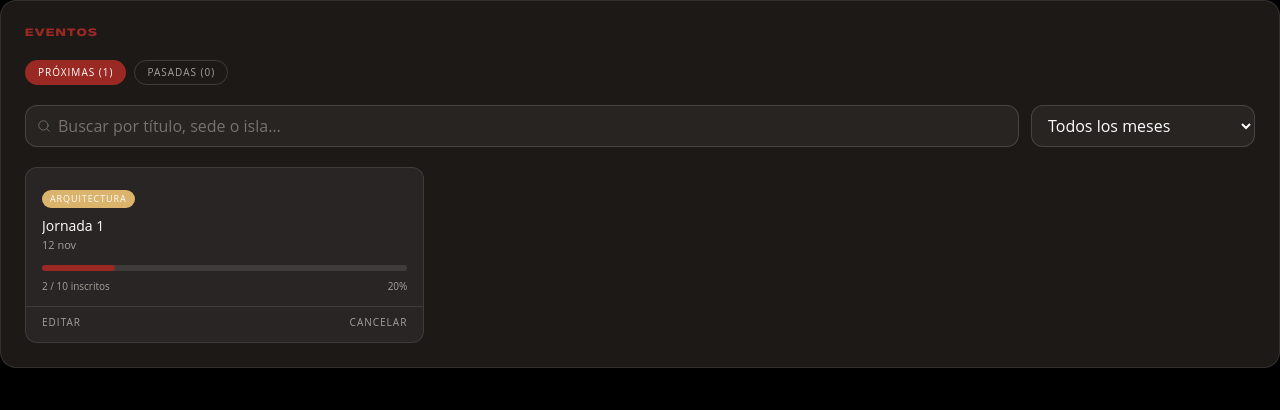
Test: ControlAsistentes — quitar a un inscrito › al confirmar, libera la plaza de ese inscrito y lo quita de la lista
Click the text "Jornada 1".
click(73, 225)  # box [42,216,104,234]
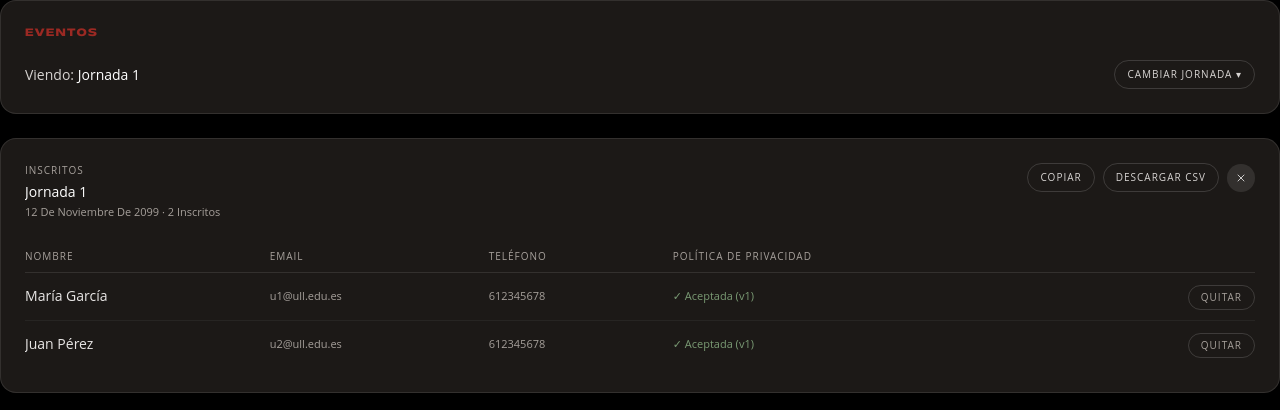
Click the button with aria-label "Quitar a María García".
click(1221, 297)  # box [1188,284,1255,310]
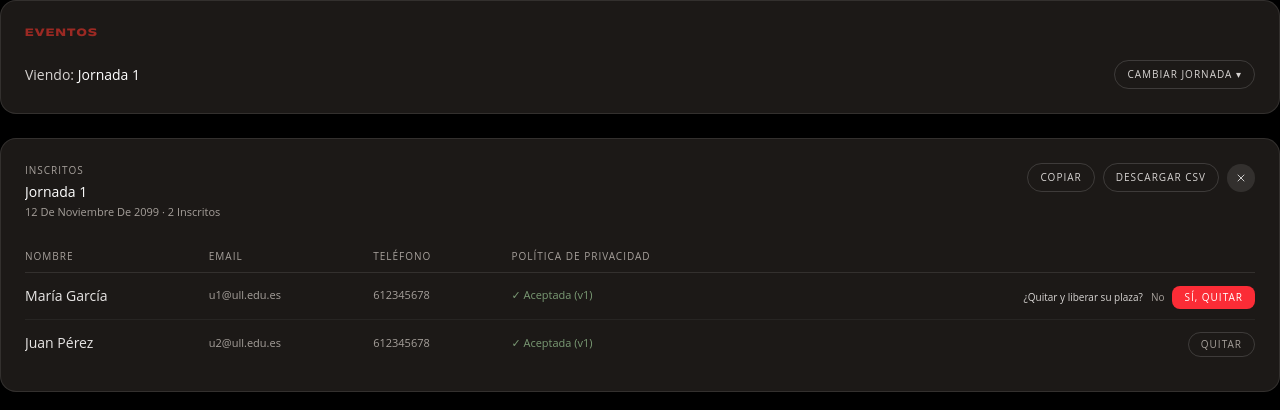
Click the button "Sí, quitar".
click(1214, 297)  # box [1172,286,1255,308]
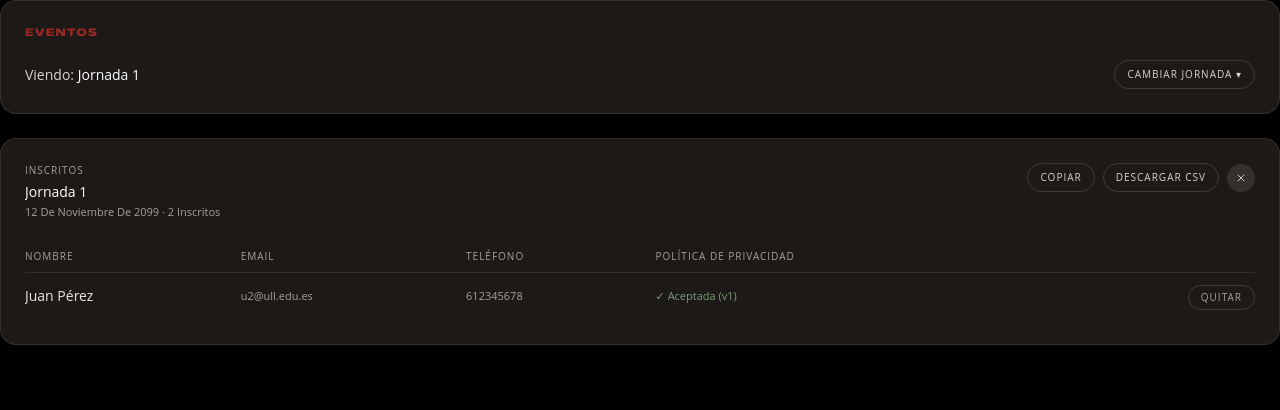
Now the text "María García" is not shown
